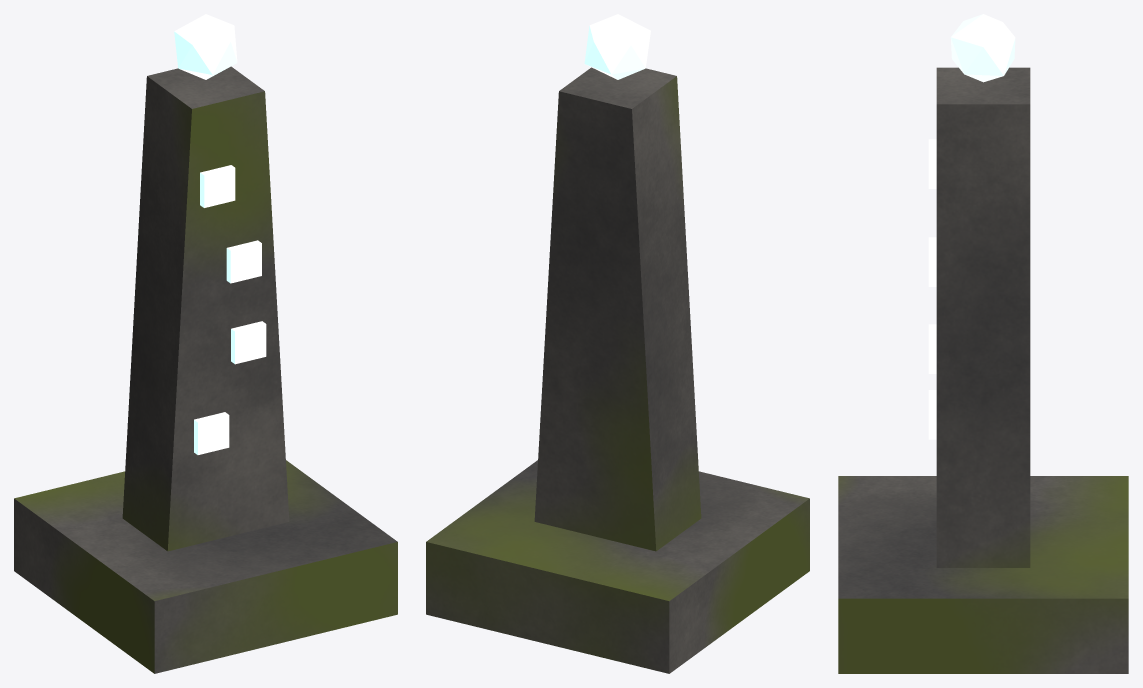
File: waystone.glb
3 renders of one model, left to right at view 1: azimuth 30°, elevation 25°; view 2: azimuth 150°, elevation 25°; view 3: azimuth 270°, elevation 25°, orthographic. The views are drawn at different scales.
Visible parts, largest first — view 1: waystone_1; view 2: waystone_1; view 3: waystone_1.
Boxes of the visible parts, x1=… form: waystone_1: x1=14, y1=14, x2=397, y2=673; waystone_1: x1=426, y1=14, x2=809, y2=673; waystone_1: x1=838, y1=14, x2=1128, y2=673.
Size of the model in its own units: 1.4 by 3.18 by 1.4.
3 materials, 2 textured.
